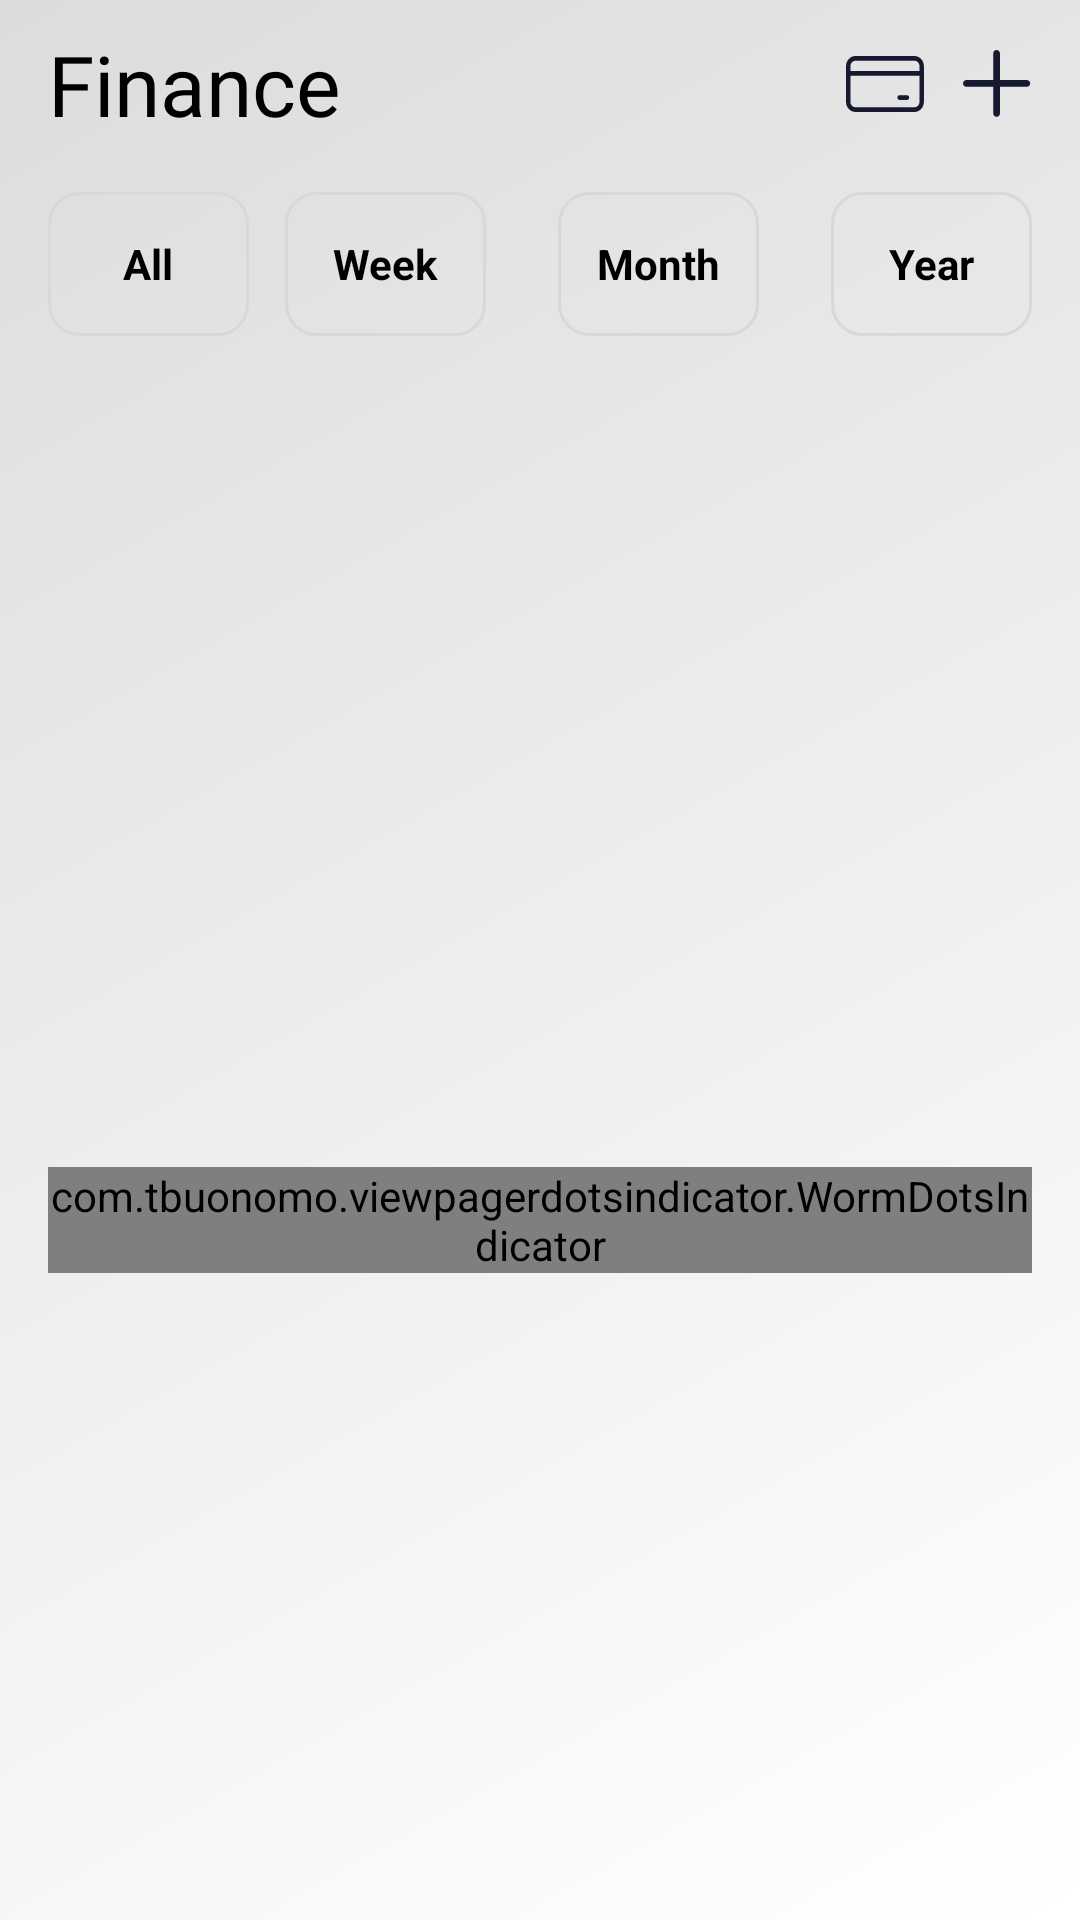

Icon bounding boxes for this 1080×1920 phone screenshot, format (x1, y1, x2, y2):
card: (846, 56, 924, 112)
plus: (963, 50, 1031, 117)
